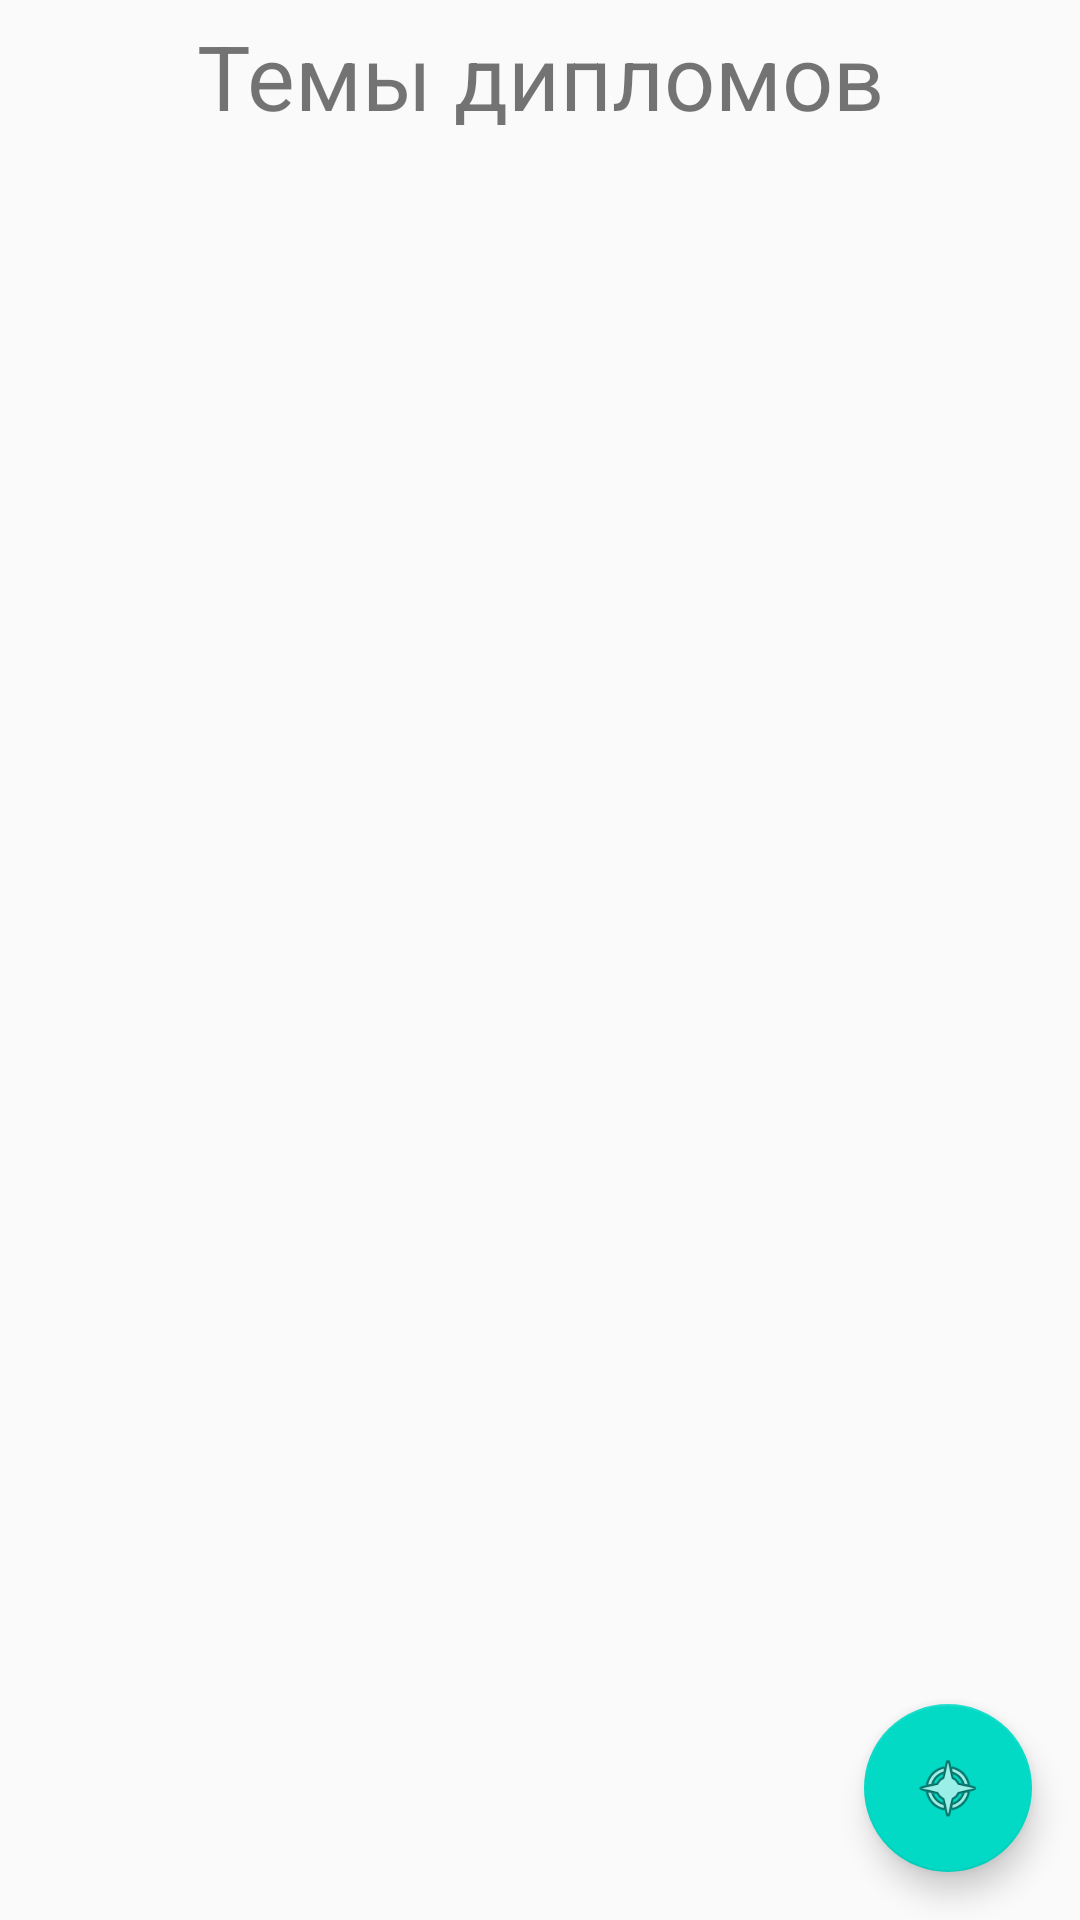

Screen size 1080 x 1920. Icon name, then its box in pixels as (x1, y1, x2, y2):
compass: (864, 1704, 1032, 1872)
